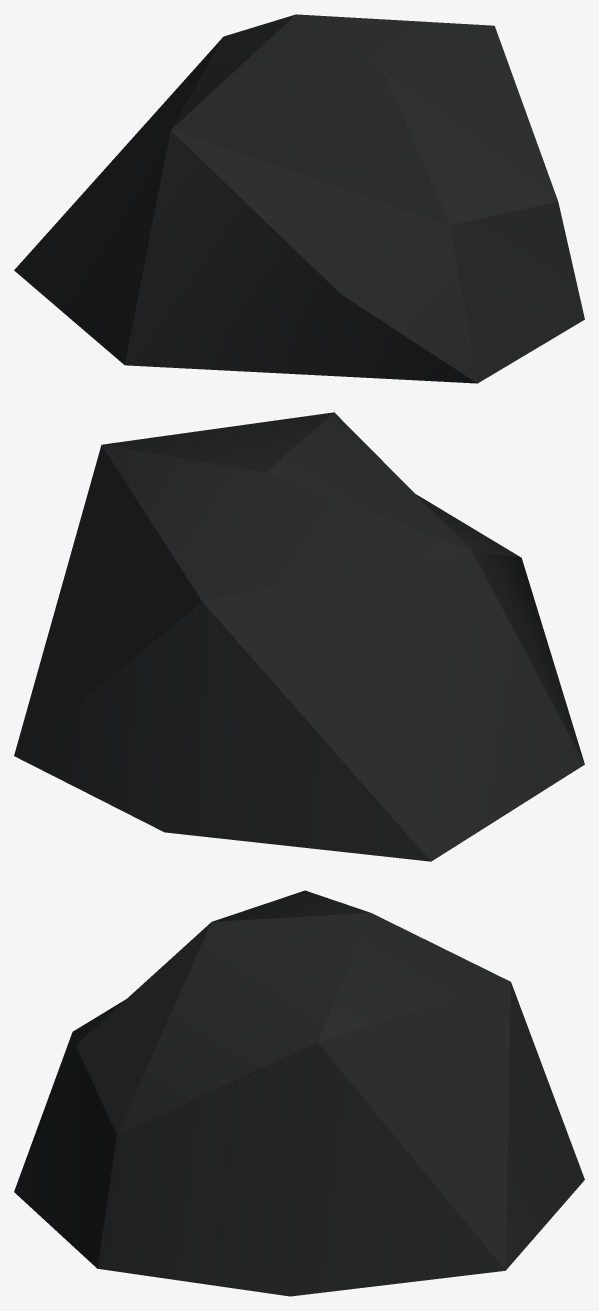
File: Rock_5.fbx
3 views of the same model, one above another, from view 1: azimuth 30°, elevation 25°; view 2: azimuth 150°, elevation 25°; view 3: azimuth 270°, elevation 25° (orthographic). The views are drawn at different scales.
Parts seen in each view (by area): view 1: Rock_5; view 2: Rock_5; view 3: Rock_5.
Part boxes in pixels (x1=…): Rock_5: x1=14, y1=14, x2=584, y2=383; Rock_5: x1=14, y1=412, x2=584, y2=861; Rock_5: x1=14, y1=890, x2=584, y2=1296.
Size of the model in its own units: 22.13 by 11.95 by 22.84.
